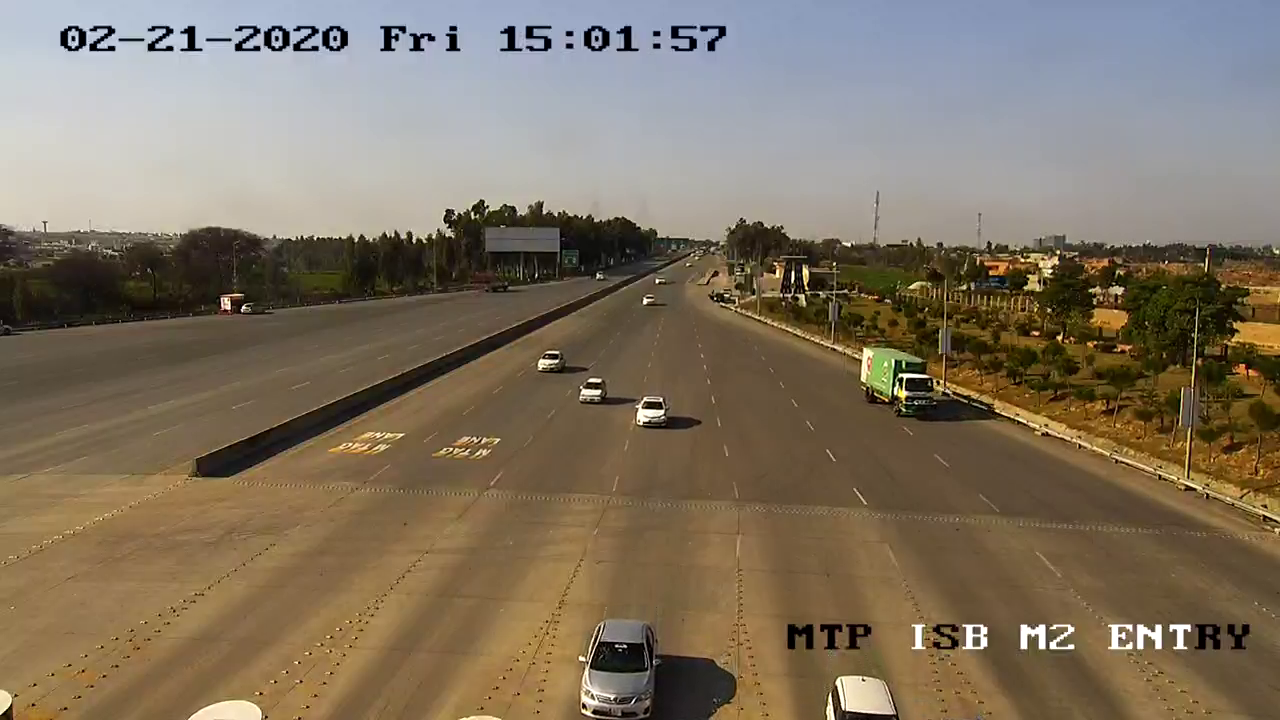f1: (566, 598, 671, 720), (625, 386, 677, 438), (568, 366, 612, 418), (529, 339, 574, 387)
f5: (843, 340, 945, 428)
